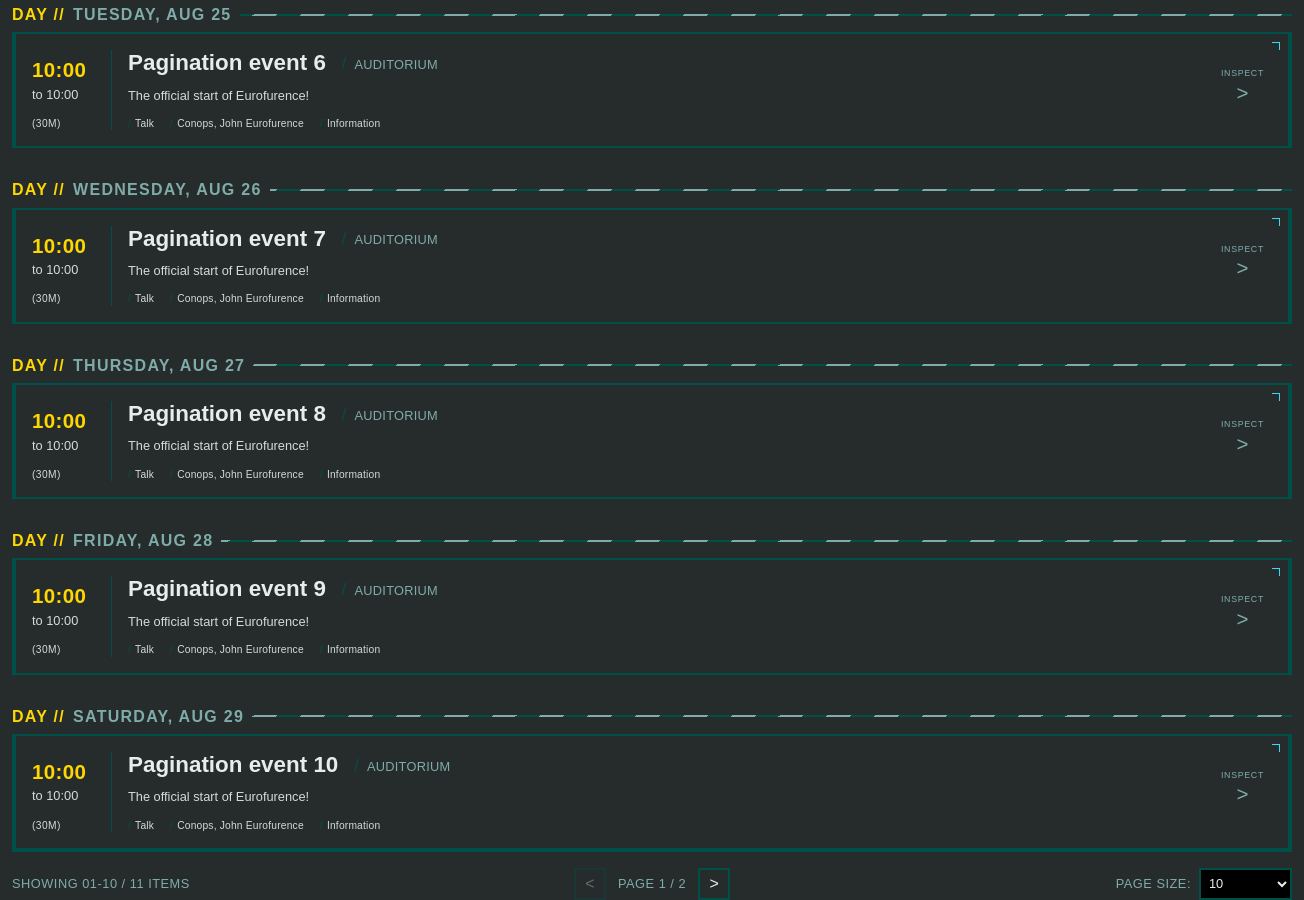
it: Components / ListView › pagination › should page through events and return to the top on each change
(page scrolled)
Expected: the text "Pagination event 11" is not shown
What coordinates should you click on to do the following:
click the button named "Next page (bottom)"
I would click on:
 (714, 884)
Its box is [698,868,730,899].
(page scrolled)
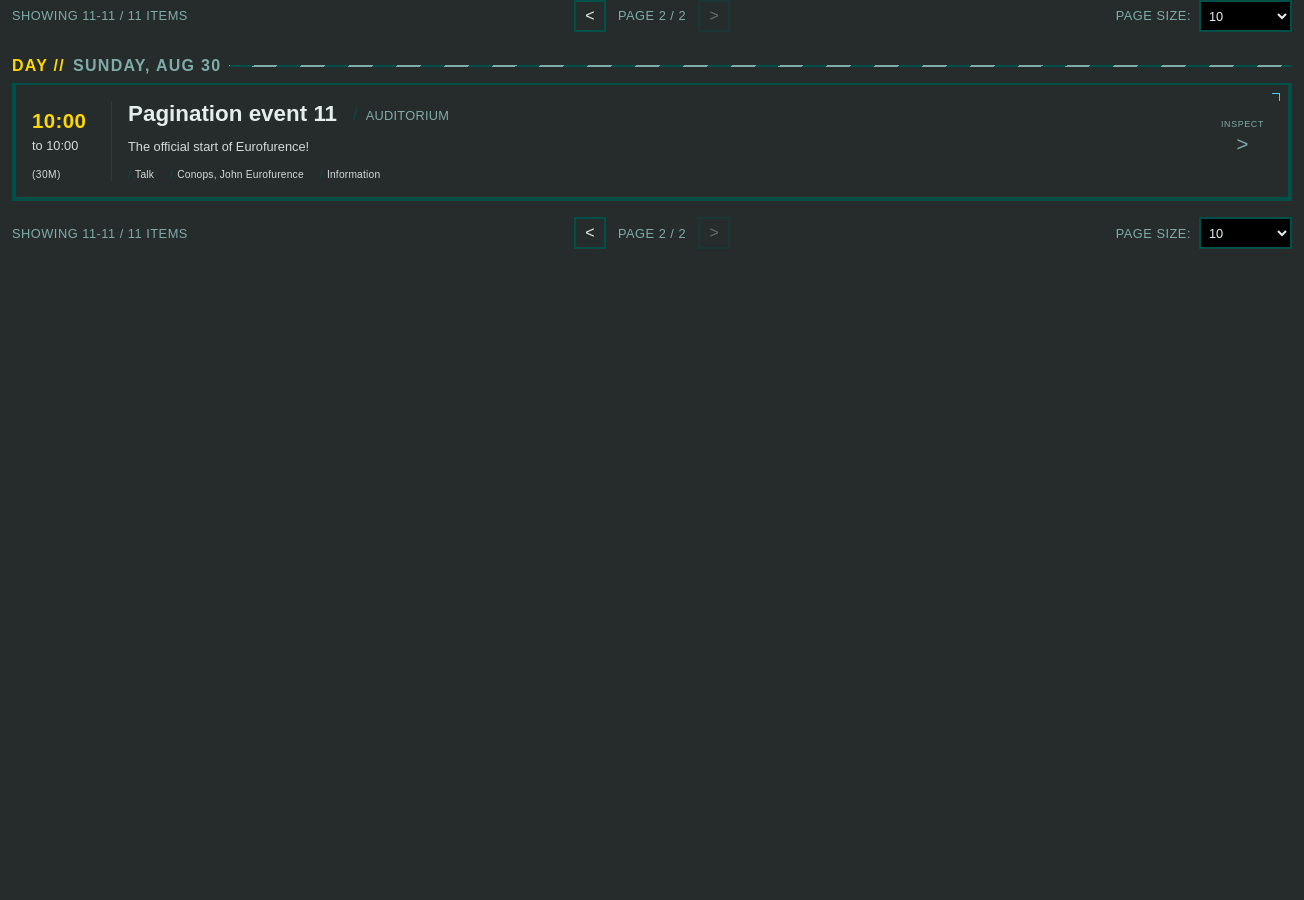
Expected: the text "Page 2 / 2" is shown 2 times, [614,8,690,24]; [614,226,690,241]
Expected: the heading "Pagination event 11" is shown, [128,101,337,128]
